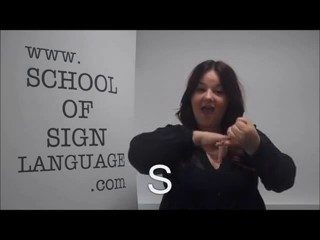S: (202, 116, 261, 165)
